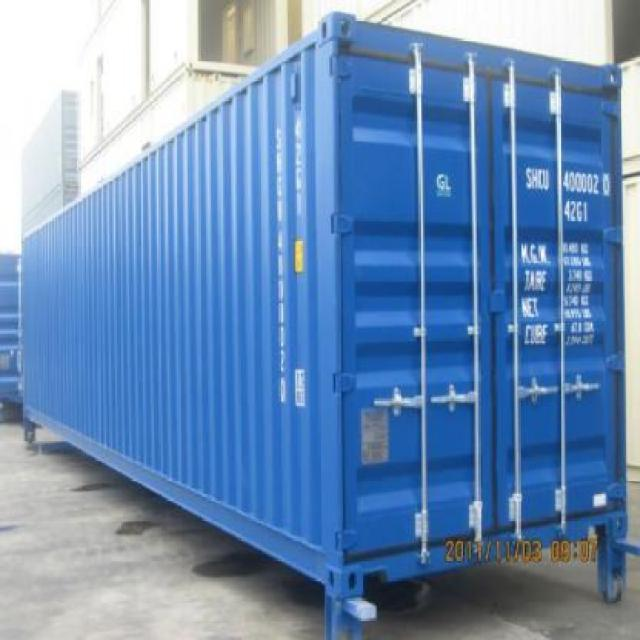ISO: (564, 200, 590, 222)
container_number: (525, 171, 610, 196)
